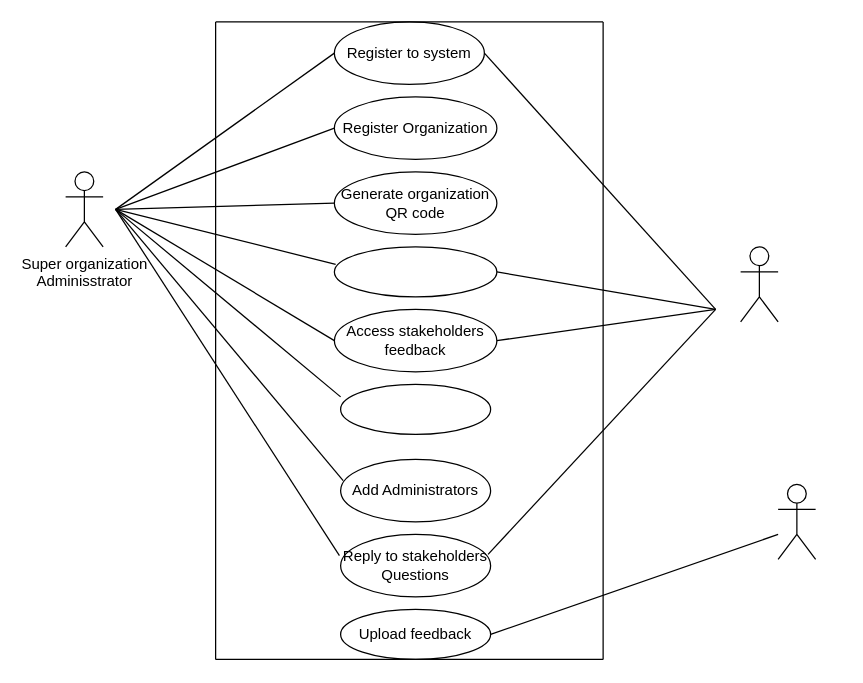
The diagram is 863 pixels wide and 683 high, and some of its shapes have lost their labels. Each missing label, with the centre of its shape:
"Delete Administrators" belongs at [415,408].
"organization Administrator" belongs at [758,284].
"Organizational dashboard" belongs at [415,271].
"Stakeholders" belongs at [796,521].
